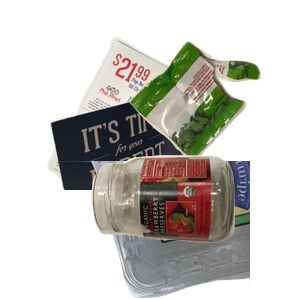glass: (89, 153, 300, 300)
paper: (45, 34, 230, 214)
plastic: (23, 161, 263, 300)
trash: (127, 39, 300, 193)
